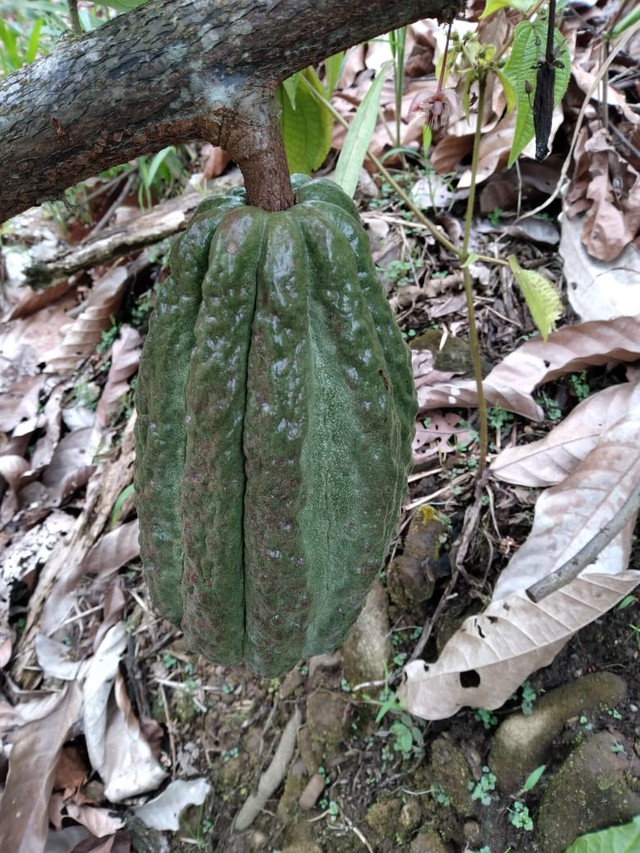Health: (123, 157, 427, 686)
